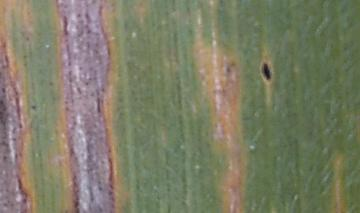tarspot: (257, 57, 273, 84)
